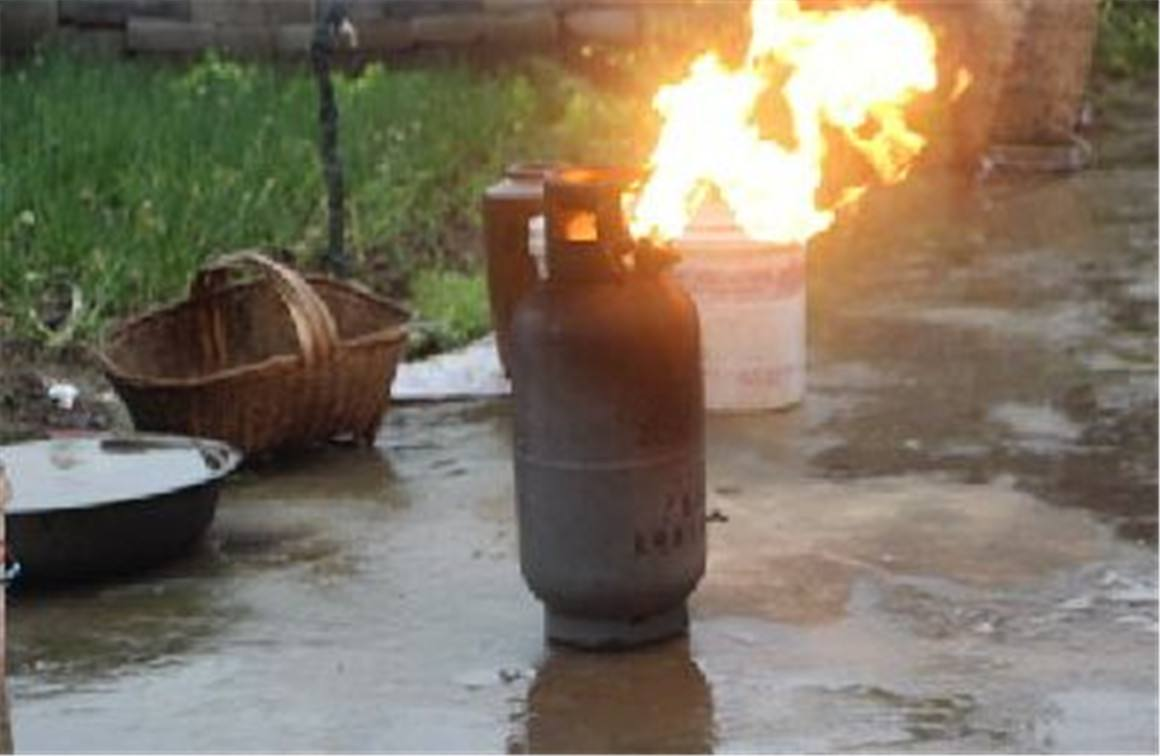fire: (630, 5, 924, 238)
